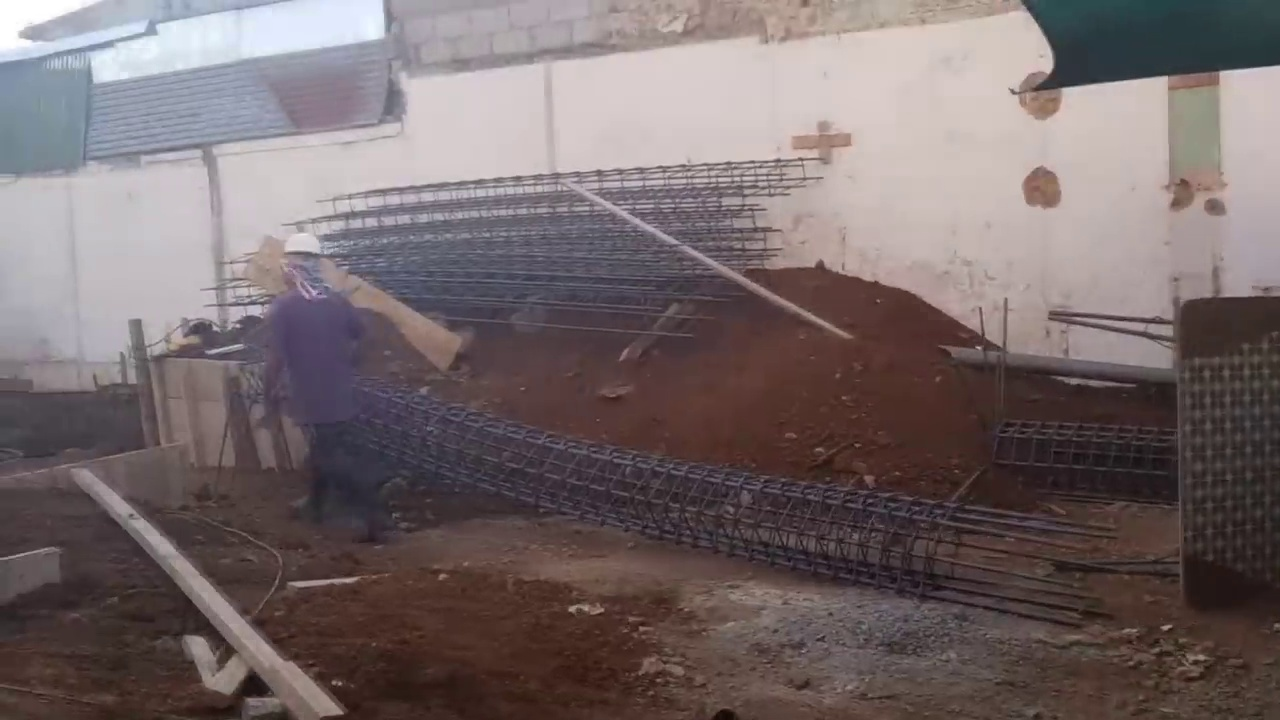helmet: (279, 228, 327, 266)
helmet-on: (283, 229, 335, 292)
person: (261, 219, 402, 550)
